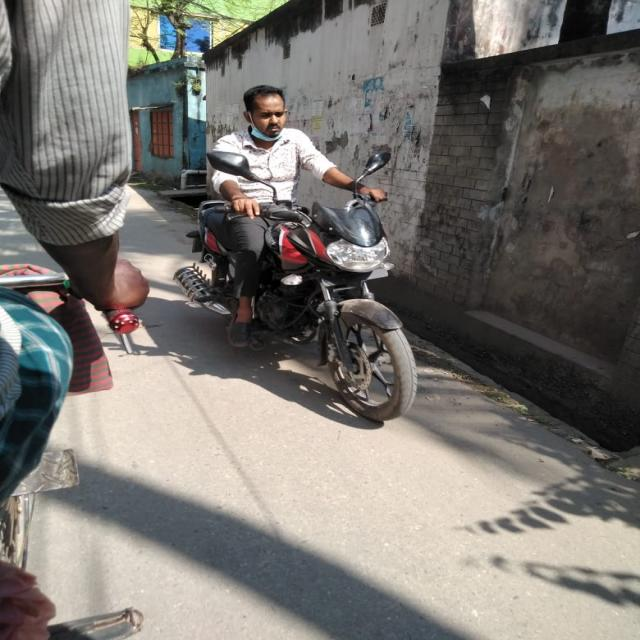Not Wearing Helmet: (189, 76, 367, 182)
